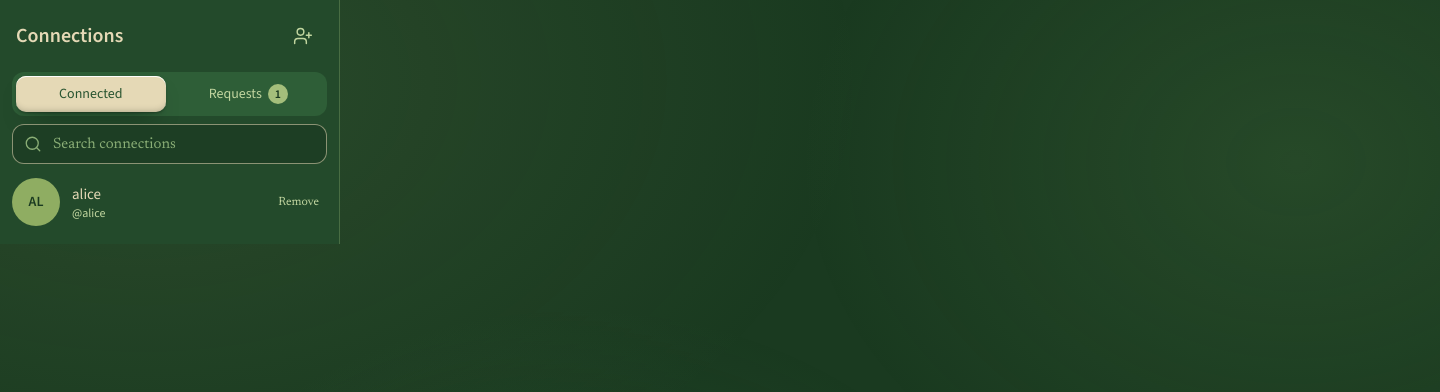
Test: ConnectionsPanel › shows both request directions, each under its own heading
What coordinates should you click on to do the following:
click the tab "Requests 1"
I would click on:
 (248, 94)
Its box is 174,76 -> 323,112.
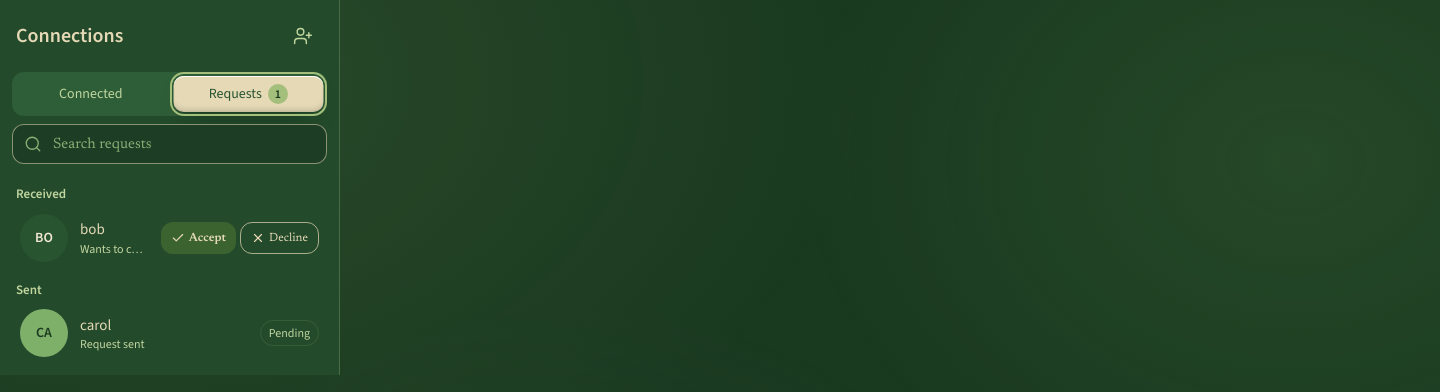
Now the heading "Received" is shown, box 16,185 -> 66,202
Now the heading "Sent" is shown, box 16,280 -> 42,298
Now the text "bob" is shown, box 80,219 -> 105,239
